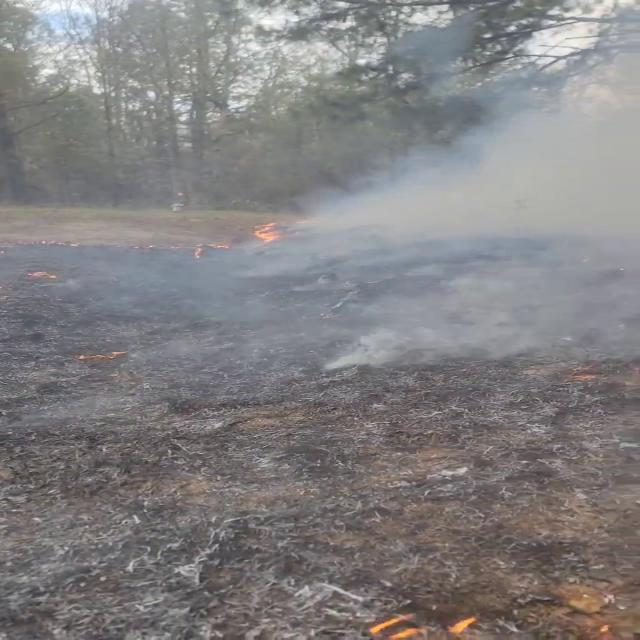Fire: (246, 216, 292, 246)
Smoke: (305, 81, 640, 381), (313, 266, 639, 382)
